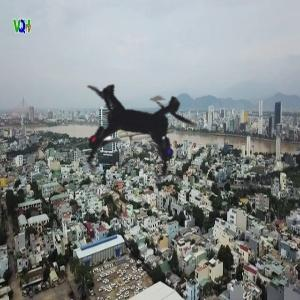drone: (37, 23, 247, 233)
